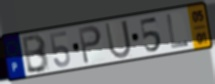5: (139, 15, 163, 54), (48, 29, 72, 68)
B: (21, 32, 51, 75)
L: (165, 13, 191, 50)
P: (77, 24, 103, 66)
U: (103, 18, 133, 61)
